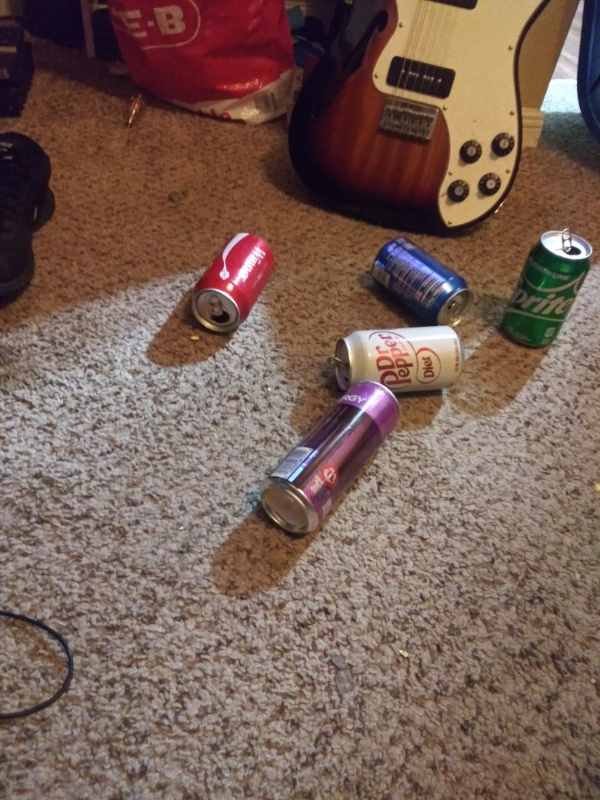can: (255, 377, 405, 539), (500, 224, 596, 354), (330, 321, 467, 398), (366, 235, 473, 332), (187, 231, 278, 336)
